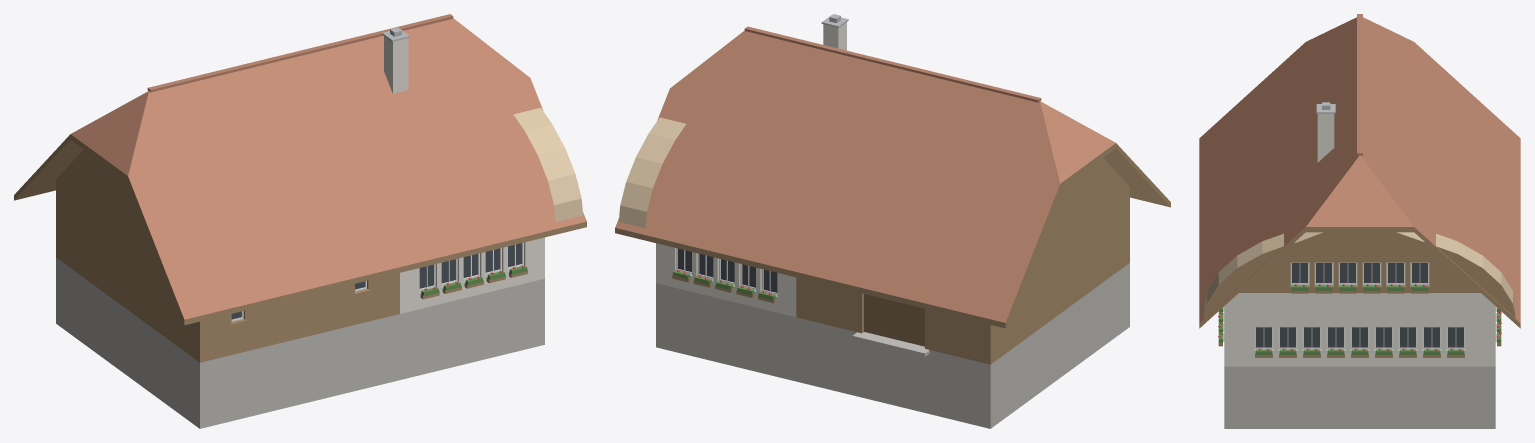
Rendered from farmhouse_m.glb.
The picture shows the model from 3 angles, left to right: view 1: azimuth 30°, elevation 25°; view 2: azimuth 150°, elevation 25°; view 3: azimuth 270°, elevation 25°; orthographic projection. The views are drawn at different scales.
Visible parts, largest first — view 1: farmhouse_m; view 2: farmhouse_m; view 3: farmhouse_m.
Part boxes in pixels (box(x1,y1,x2,y2)): farmhouse_m: box(14, 14, 586, 428); farmhouse_m: box(615, 14, 1170, 428); farmhouse_m: box(1199, 14, 1520, 428).
Bounding box in the file's own units: 21 × 14.88 × 15.4.
